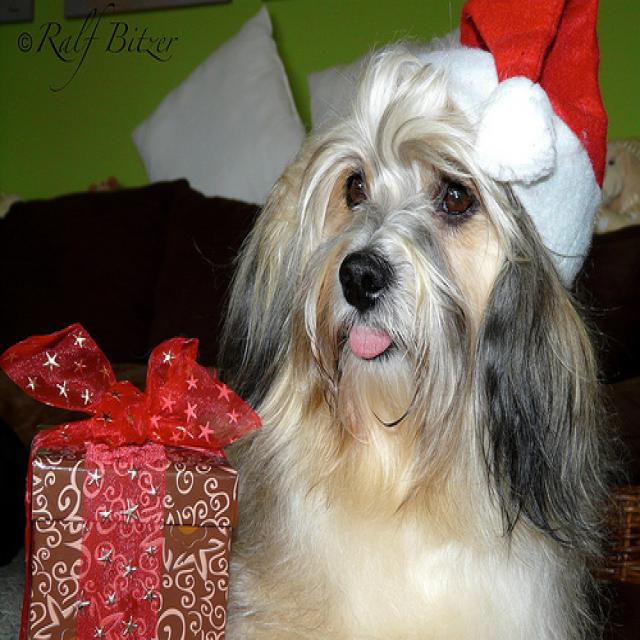dog-havanese: (204, 32, 628, 637)
